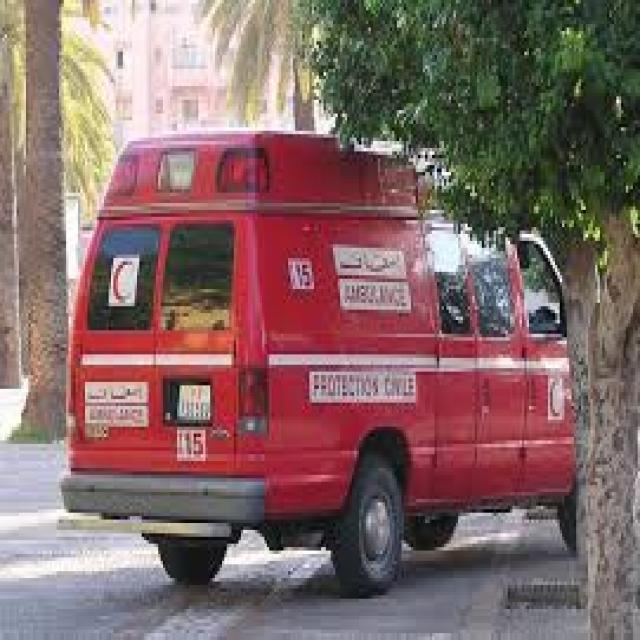ambulance: (57, 120, 595, 594)
